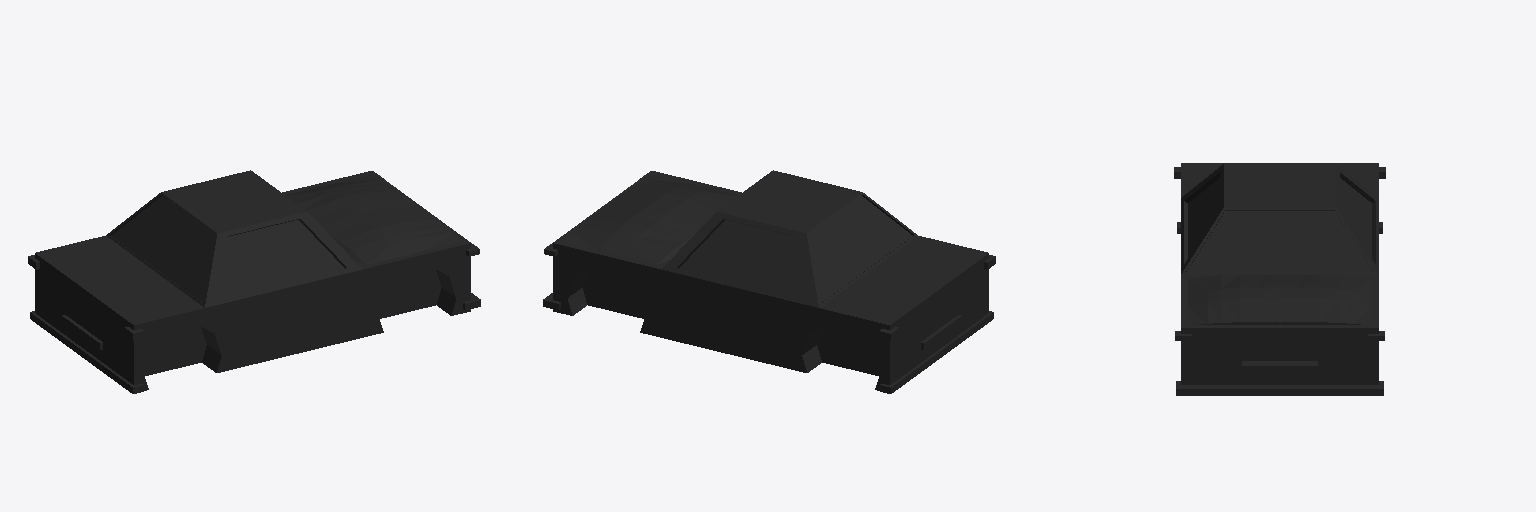
The model's file is Car.obj.
The picture shows the model from 3 angles: view 1: azimuth 30°, elevation 25°; view 2: azimuth 150°, elevation 25°; view 3: azimuth 270°, elevation 25°; orthographic projection.
Visible parts, largest first — view 1: Cube.001; view 2: Cube.001; view 3: Cube.001.
Boxes of the visible parts, x1,y1,x2,y2 form: Cube.001: [28, 170, 480, 393]; Cube.001: [543, 170, 995, 393]; Cube.001: [1174, 163, 1385, 395].
Size of the model in its own units: 4.09 by 1.32 by 2.13.